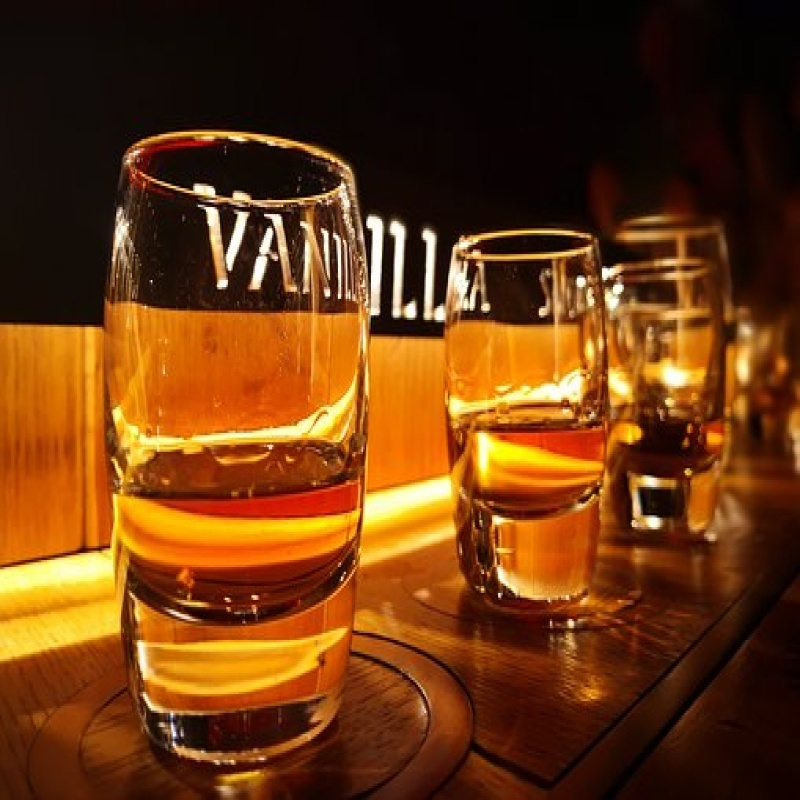whiskey: (103, 119, 366, 752), (438, 230, 611, 607)
